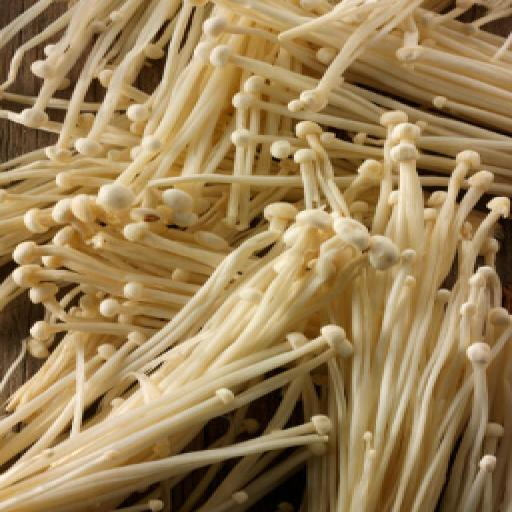Enoki Mushroom: (16, 33, 512, 433)
